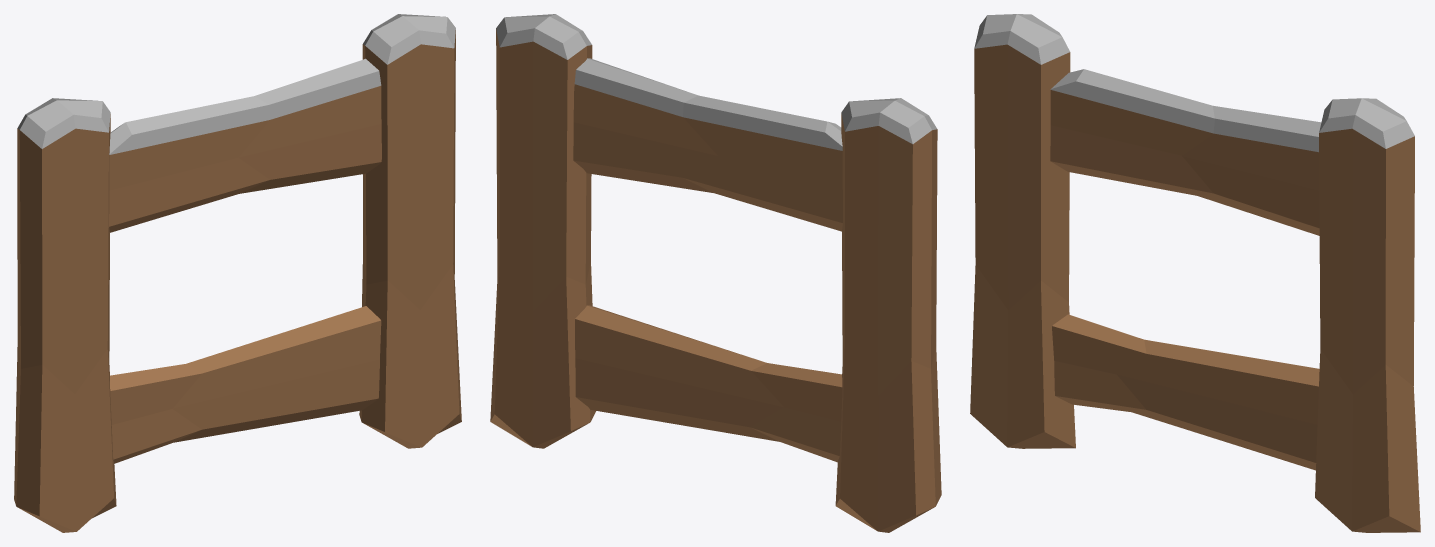
Rendered from Fence_2 Door Winter.fbx.
3 views of the same model, side by side, from view 1: azimuth 30°, elevation 25°; view 2: azimuth 150°, elevation 25°; view 3: azimuth 330°, elevation 25° (orthographic).
Visible parts, largest first — view 1: Fence2 DoorWinter_mesh; view 2: Fence2 DoorWinter_mesh; view 3: Fence2 DoorWinter_mesh.
Part boxes in pixels (x1=…): Fence2 DoorWinter_mesh: x1=14, y1=14, x2=461, y2=532; Fence2 DoorWinter_mesh: x1=490, y1=14, x2=941, y2=532; Fence2 DoorWinter_mesh: x1=970, y1=14, x2=1420, y2=532.
Bounding box in the file's own units: 80.37 × 74.8 × 8.51.
